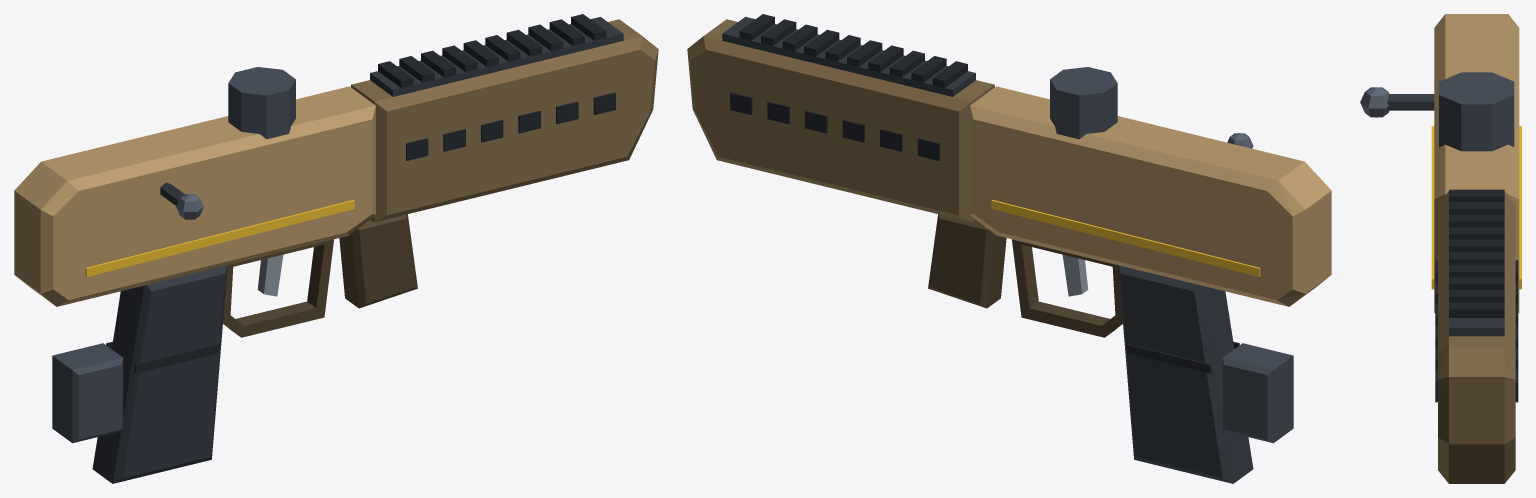
Rendered from sniper.glb.
3 renders of one model, left to right at view 1: azimuth 30°, elevation 25°; view 2: azimuth 150°, elevation 25°; view 3: azimuth 270°, elevation 25°, orthographic. The views are drawn at different scales.
Parts seen in each view (by area): view 1: sniper_body; view 2: sniper_body; view 3: sniper_body.
Boxes of the visible parts, left/top/right/bottom form: sniper_body: left=14, top=14, right=658, bottom=483; sniper_body: left=687, top=14, right=1331, bottom=483; sniper_body: left=1360, top=14, right=1521, bottom=483.
Size of the model in its own units: 0.462 by 0.254 by 0.0874.
